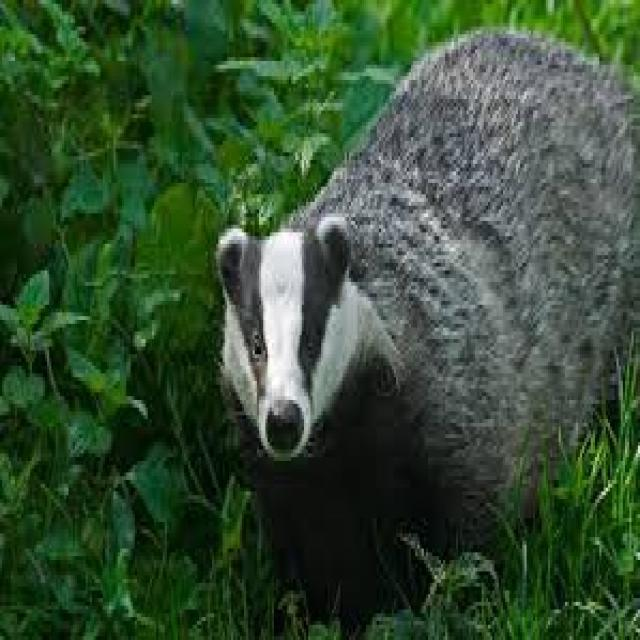Badger: (210, 21, 638, 539)
